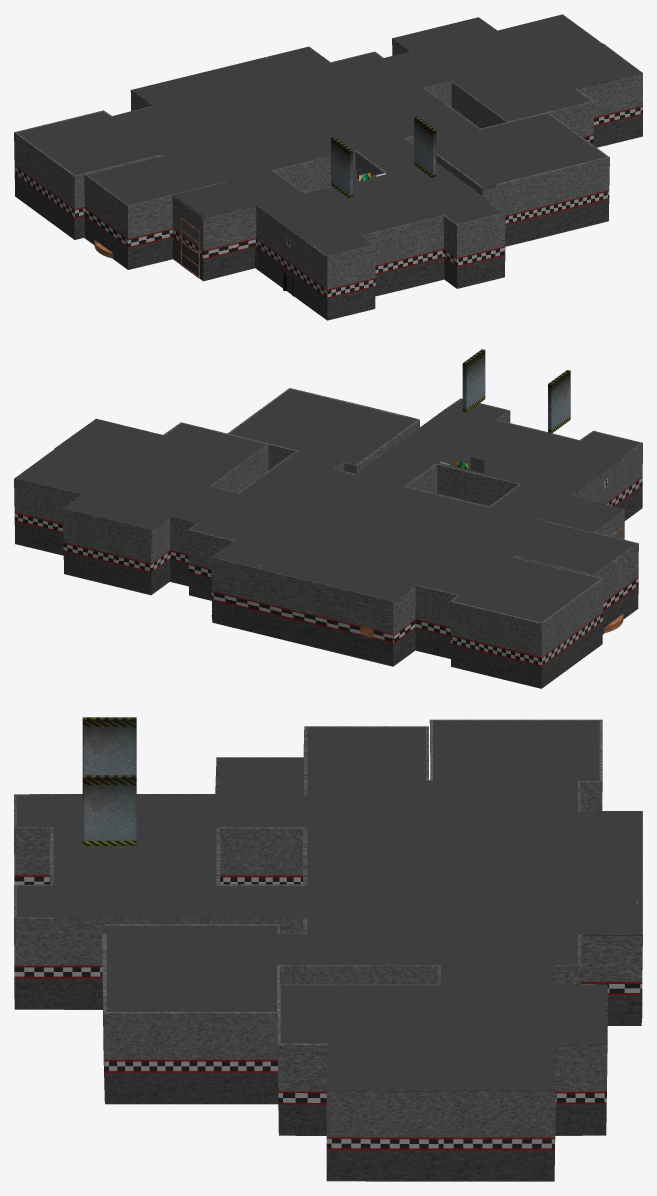
The model's file is map.glb.
The picture shows the model from 3 angles, top to bottom: view 1: azimuth 30°, elevation 25°; view 2: azimuth 150°, elevation 25°; view 3: azimuth 270°, elevation 25°; orthographic projection. The views are drawn at different scales.
Parts seen in each view (by area): view 1: Object_9, Object_481, Object_84, Object_227; view 2: Object_9, Object_481, Object_487, Object_84, Object_87; view 3: Object_9, Object_481, Object_84.
Boxes of the visible parts, x1=… form: Object_9: x1=17, y1=15, x2=639, y2=255; Object_481: x1=14, y1=14, x2=642, y2=320; Object_84: x1=331, y1=116, x2=436, y2=198; Object_227: x1=94, y1=217, x2=199, y2=278; Object_9: x1=17, y1=389, x2=639, y2=622; Object_481: x1=14, y1=388, x2=642, y2=688; Object_487: x1=211, y1=557, x2=393, y2=666; Object_84: x1=462, y1=349, x2=570, y2=433; Object_87: x1=211, y1=615, x2=415, y2=665; Object_9: x1=17, y1=720, x2=641, y2=1089; Object_481: x1=14, y1=719, x2=642, y2=1181; Object_84: x1=82, y1=717, x2=136, y2=845.
Size of the model in its own units: 22.92 by 6.12 by 16.4.
45 materials, 26 textured.
